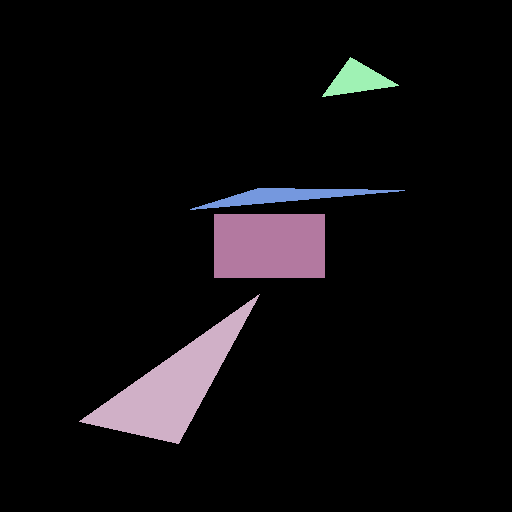rectangle: (214, 214, 324, 277)
triangle: (79, 294, 259, 443), (190, 188, 404, 209), (322, 57, 398, 96)
